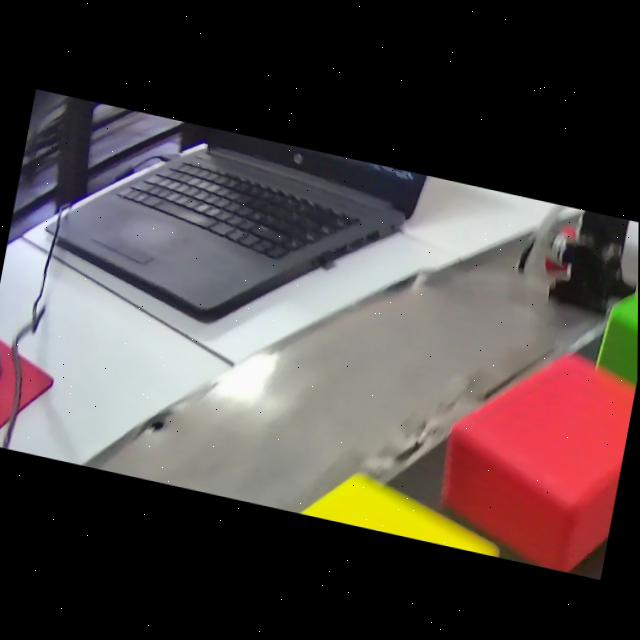greenBox: (588, 248, 639, 406)
redBox: (427, 319, 638, 574)
yellowBox: (221, 439, 510, 553)
